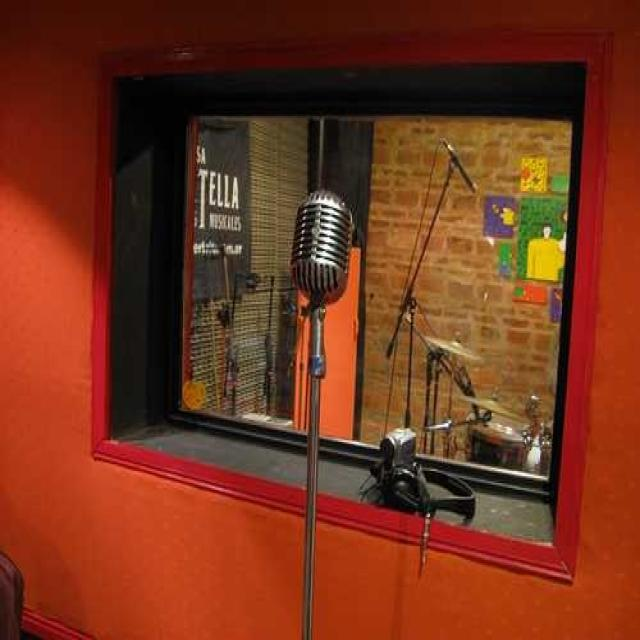microphone: (293, 178, 356, 350), (443, 141, 486, 207)
